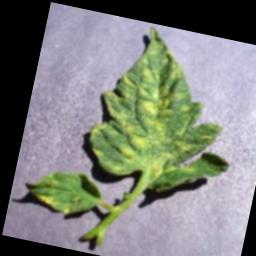Leaf_Mold: (77, 19, 253, 204), (33, 189, 56, 208)
